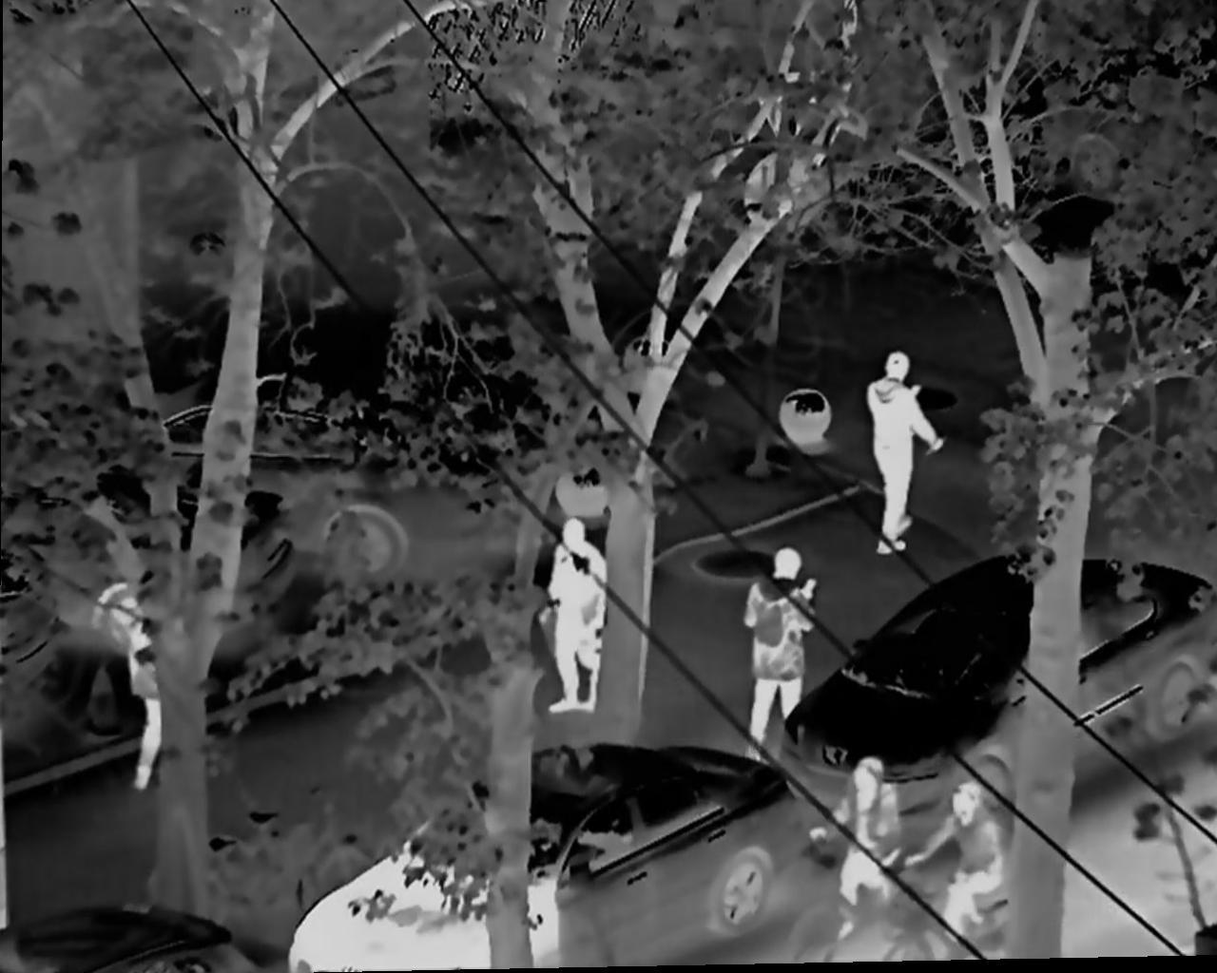person: (908, 778, 1028, 973), (93, 571, 184, 799), (815, 760, 908, 973), (533, 519, 614, 709), (864, 350, 935, 564), (743, 547, 807, 754)
